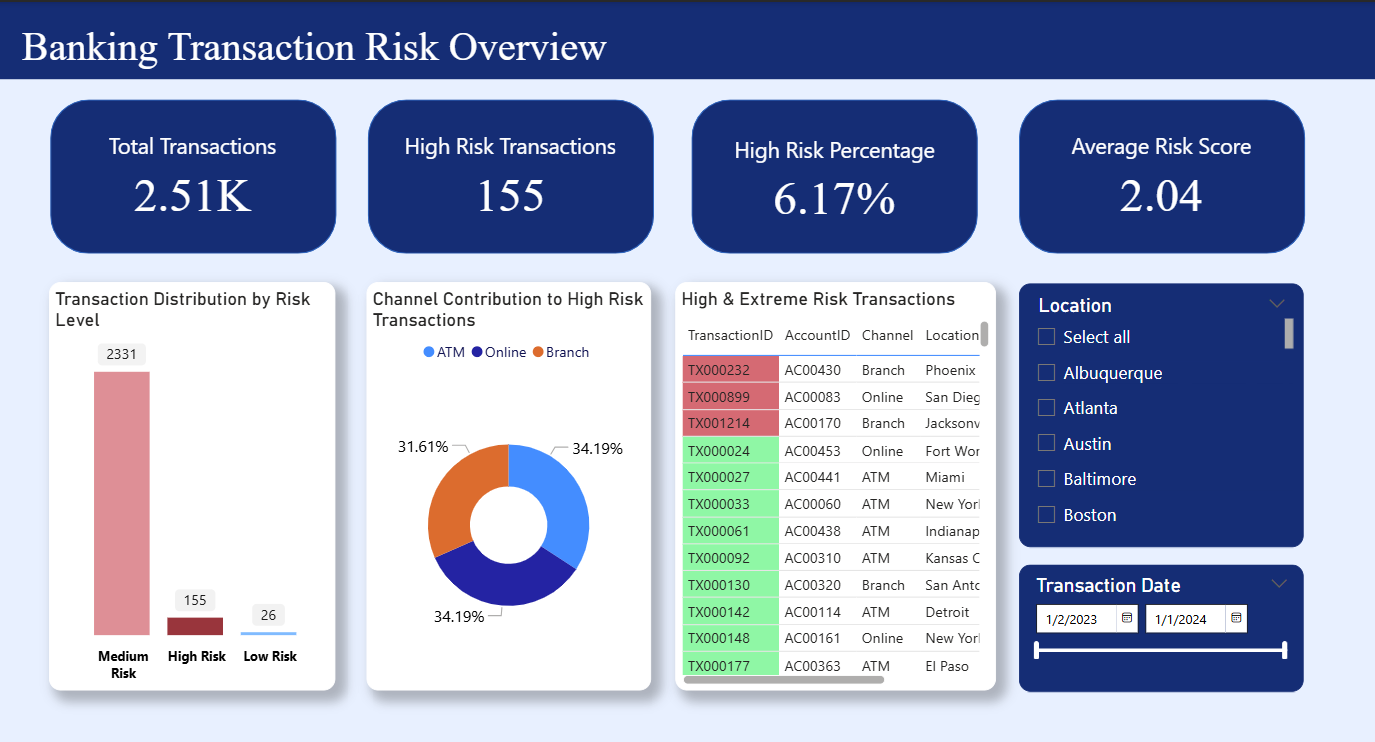

Layout of this report page (visuals, bound fields, positions):
{"tool":"powerbi","page":{"name":"Dashboard","canvas":[1280,720],"ordinal":0},"visuals":[{"type":"textbox","box":[16,14.7,692,60.1],"z":0},{"type":"shape","box":[47.1,90.6,266.3,143.6],"z":1000},{"type":"shape","box":[342.8,90.6,266.3,143.6],"z":2000},{"type":"shape","box":[644.7,90.6,266.3,143.6],"z":3000},{"type":"shape","box":[949,90.6,266.3,143.6],"z":4000},{"type":"cardVisual","fields":{"Data":["bank_data transaction_risk_score.Total Transactions"]},"box":[84.6,98.7,190.3,126.9],"z":5000},{"type":"cardVisual","fields":{"Data":["bank_data transaction_risk_score.High Risk Transactions"]},"box":[343,98.7,265.5,126.9],"z":6000},{"type":"cardVisual","fields":{"Data":["bank_data transaction_risk_score.High Risk %"]},"box":[644.2,98.2,266.3,136.2],"z":7000},{"type":"cardVisual","fields":{"Data":["bank_data transaction_risk_score.Average Risk Score"]},"box":[949.2,98.7,265.5,126.9],"z":8000},{"type":"clusteredColumnChart","title":"Transaction Distribution by Risk Level","fields":{"Y":["bank_data transaction_risk_score.Transactions by Risk Level"],"Category":["bank_data transaction_risk_score.risk_level"]},"box":[47,260.6,266.7,380.3],"z":9000},{"type":"slicer","fields":{"Values":["bank_data transaction_risk_score.Location"]},"box":[948.5,262.1,265.2,245.5],"z":10000},{"type":"slicer","fields":{"Values":["bank_data transaction_risk_score.TransactionDate"]},"box":[948.5,522.7,265.2,118.2],"z":11000},{"type":"donutChart","title":"Channel Contribution to High Risk Transactions","fields":{"Y":["bank_data transaction_risk_score.High Risk Transactions"],"Category":["bank_data transaction_risk_score.Channel"]},"box":[342.4,260.6,265.2,380.3],"z":12000},{"type":"tableEx","title":"High & Extreme Risk Transactions","fields":{"Values":["bank_data transaction_risk_score.TransactionID","bank_data transaction_risk_score.AccountID","bank_data transaction_risk_score.Channel","bank_data transaction_risk_score.Location","bank_data transaction_risk_score.risk_score"]},"box":[629,261,298,380],"z":13000}]}

Visuals, with their boxes on the page's 1280x720 design canvas (x1, y1, x2, y2). These are canvas units, not pixel positions in the 1375x742 screenshot, which may show the page scaled, cropped or inside an application window:
textbox: rect(16, 15, 708, 75)
shape: rect(47, 91, 313, 234)
shape: rect(343, 91, 609, 234)
shape: rect(645, 91, 911, 234)
shape: rect(949, 91, 1215, 234)
cardVisual - bank_data transaction_risk_score.Total Transactions: rect(85, 99, 275, 226)
cardVisual - bank_data transaction_risk_score.High Risk Transactions: rect(343, 99, 608, 226)
cardVisual - bank_data transaction_risk_score.High Risk %: rect(644, 98, 910, 234)
cardVisual - bank_data transaction_risk_score.Average Risk Score: rect(949, 99, 1215, 226)
"Transaction Distribution by Risk Level" clusteredColumnChart: rect(47, 261, 314, 641)
slicer - bank_data transaction_risk_score.Location: rect(948, 262, 1214, 508)
slicer - bank_data transaction_risk_score.TransactionDate: rect(948, 523, 1214, 641)
"Channel Contribution to High Risk Transactions" donutChart: rect(342, 261, 608, 641)
"High & Extreme Risk Transactions" tableEx: rect(629, 261, 927, 641)
